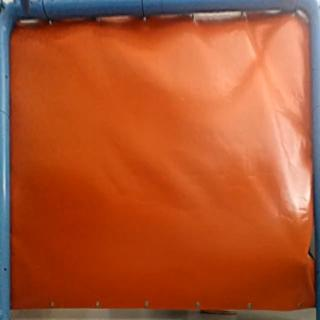Hit-hRxx: (295, 256, 311, 271)
